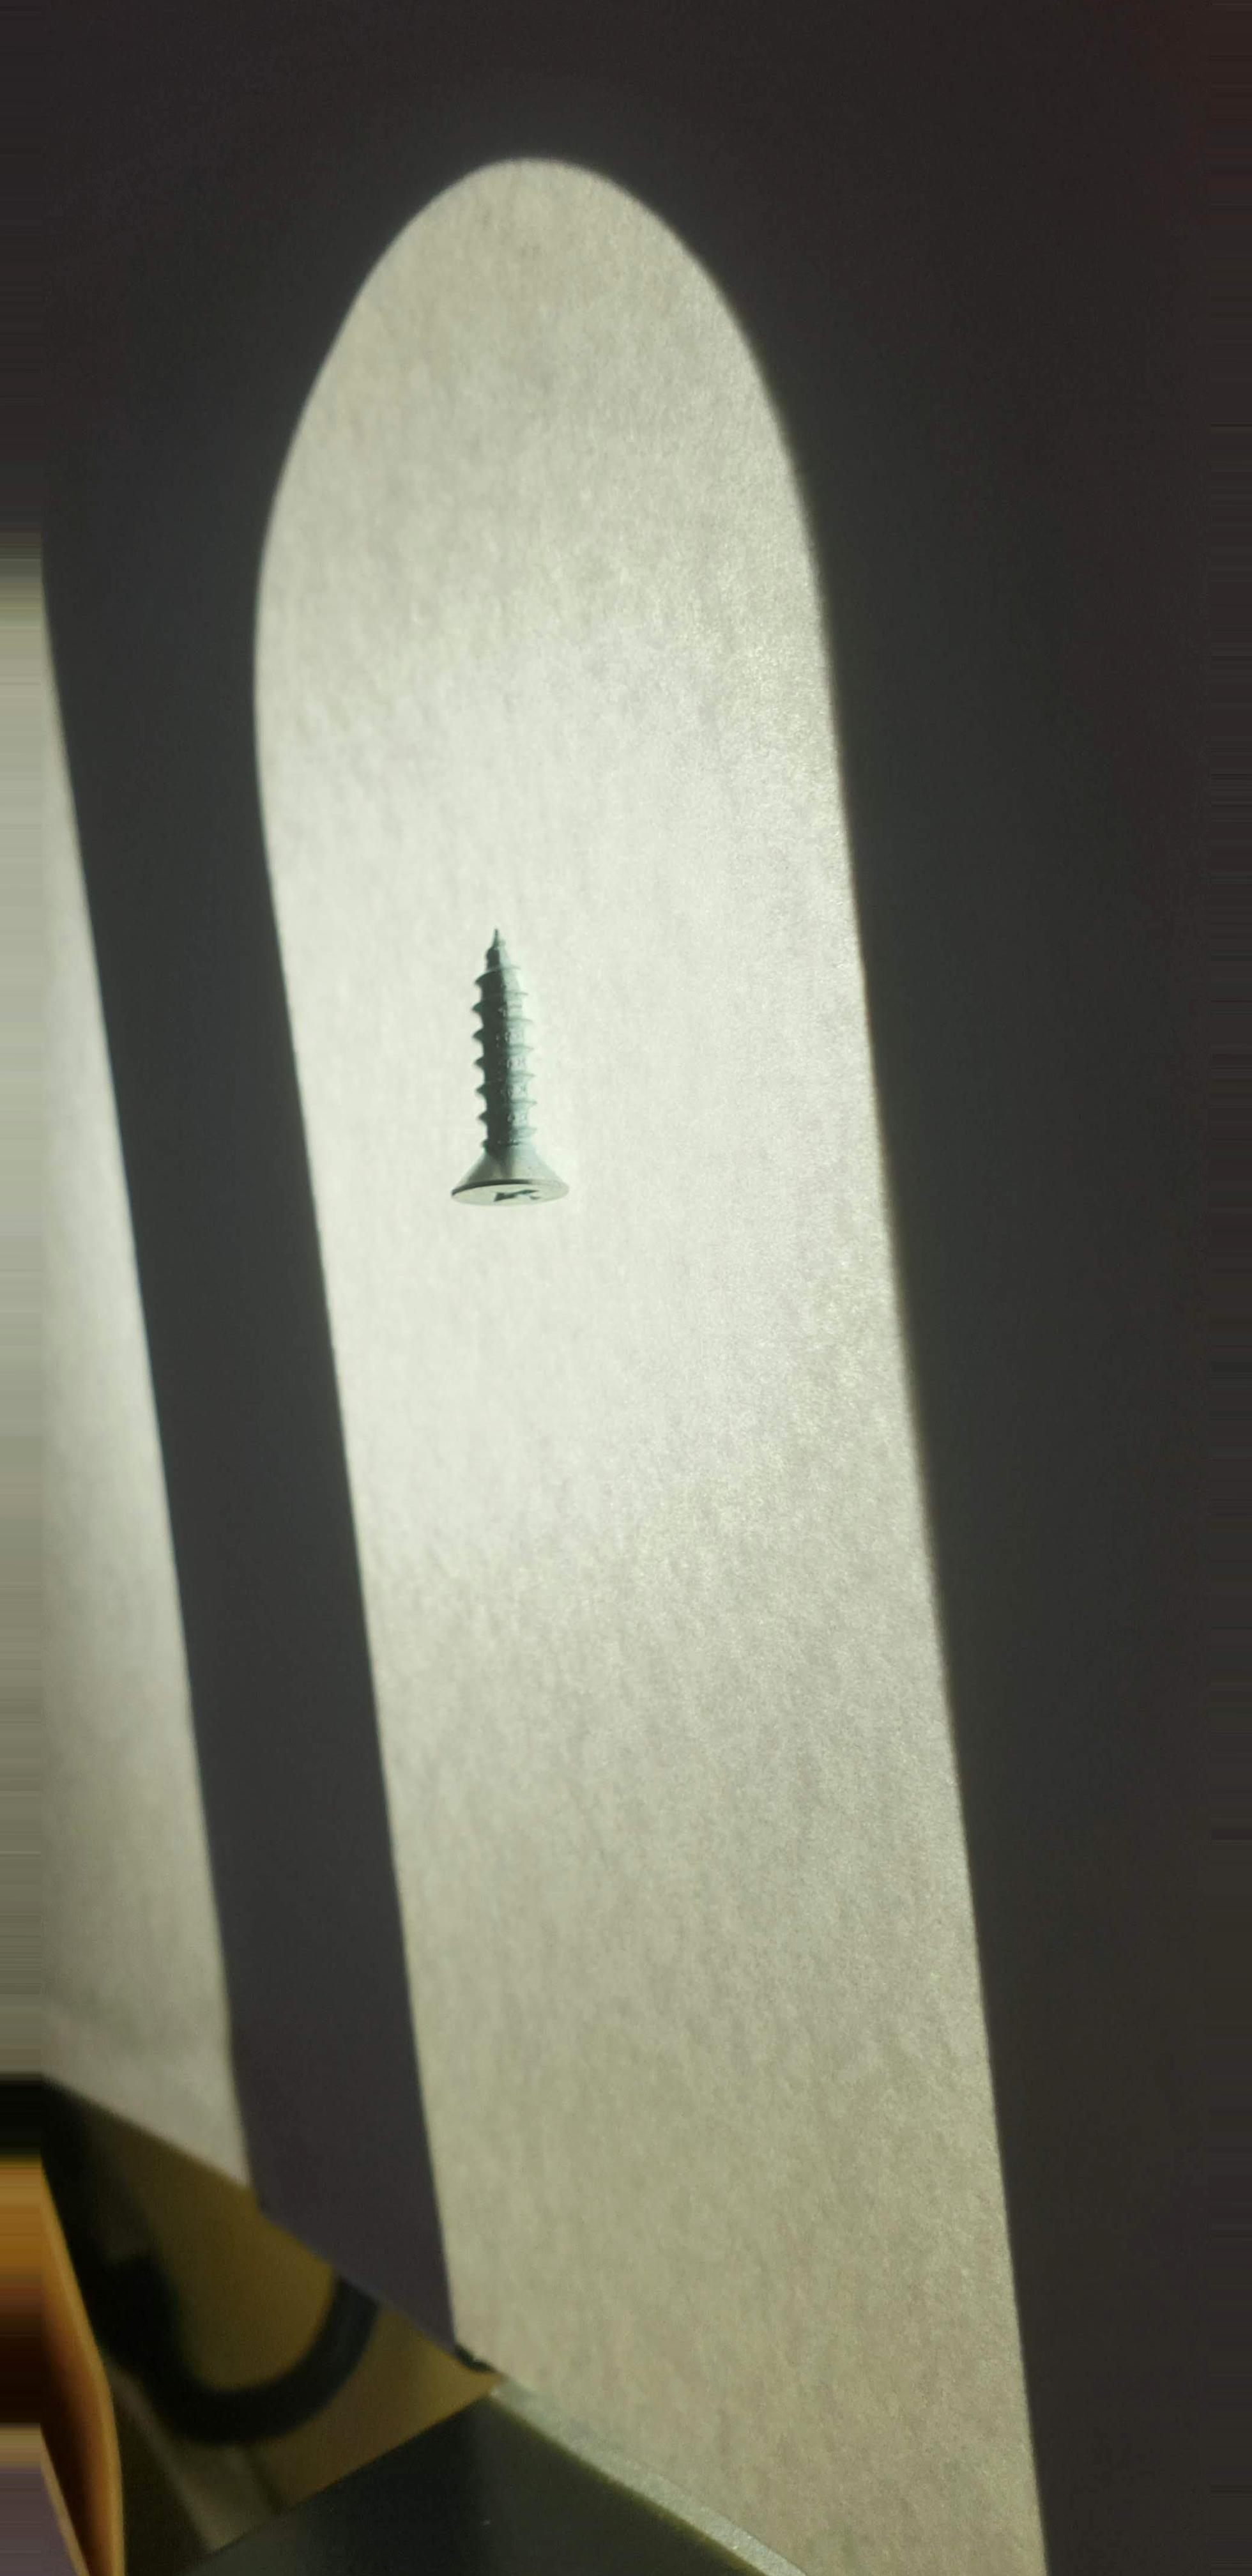S003: (416, 890, 616, 1268)
